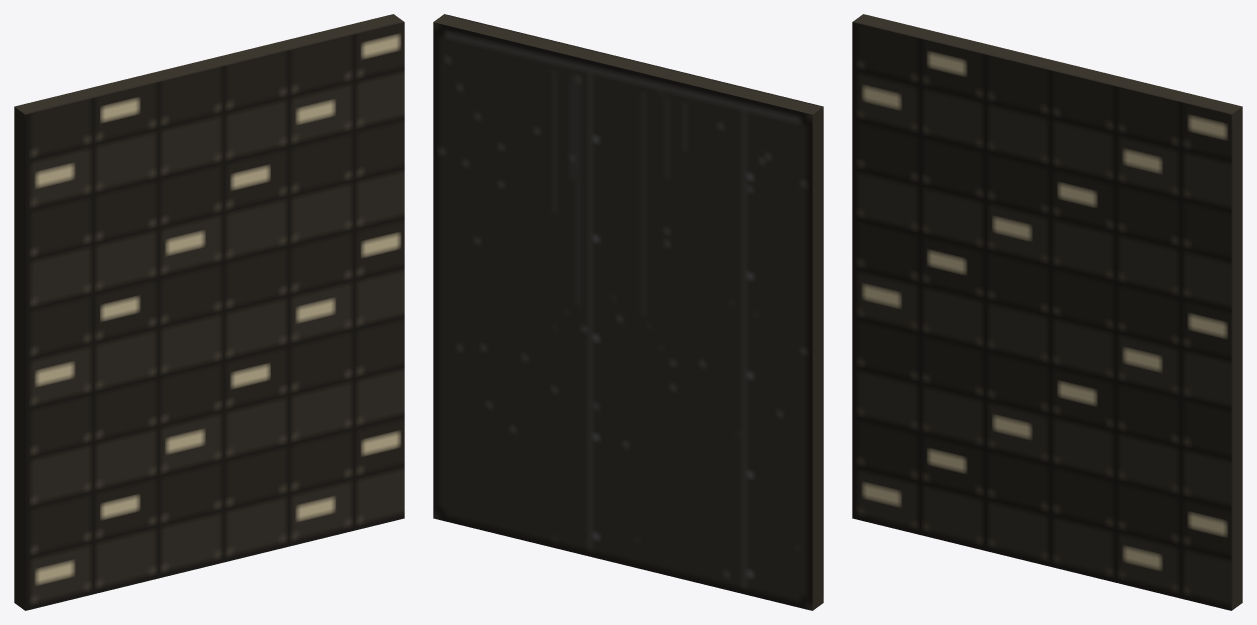
The model's file is WallPanelTile.obj.
3 renders of one model, left to right at view 1: azimuth 30°, elevation 25°; view 2: azimuth 150°, elevation 25°; view 3: azimuth 330°, elevation 25°, orthographic.
Visible parts, largest first — view 1: WallPanelTile; view 2: WallPanelTile; view 3: WallPanelTile.
Boxes of the visible parts, x1,y1,x2,y2 form: WallPanelTile: [14, 14, 404, 610]; WallPanelTile: [433, 14, 823, 610]; WallPanelTile: [852, 14, 1242, 610].
Size of the model in its own units: 2 by 2.5 by 0.102.
1 material, 1 textured.
